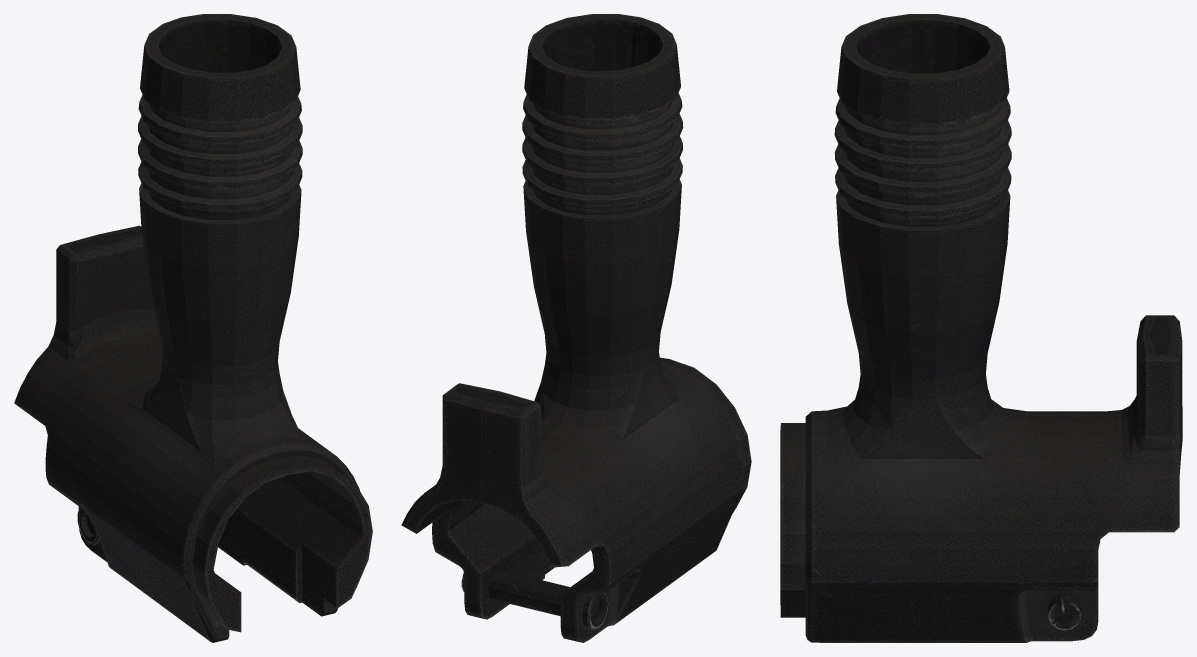
3 renders of one model, left to right at view 1: azimuth 30°, elevation 25°; view 2: azimuth 150°, elevation 25°; view 3: azimuth 270°, elevation 25°, orthographic. The views are drawn at different scales.
Visible parts, largest first — view 1: TW_5d2f259b48f0355a844acd74_PZ_Import; view 2: TW_5d2f259b48f0355a844acd74_PZ_Import; view 3: TW_5d2f259b48f0355a844acd74_PZ_Import.
Part boxes in pixels (box(x1,y1,x2,y2)): TW_5d2f259b48f0355a844acd74_PZ_Import: box(14, 14, 372, 642); TW_5d2f259b48f0355a844acd74_PZ_Import: box(401, 14, 751, 642); TW_5d2f259b48f0355a844acd74_PZ_Import: box(780, 14, 1182, 642).
Bounding box in the file's own units: 0.0223 × 0.0411 × 0.0638.
Materials: 1 (1 with a texture image).
